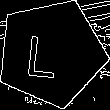L_N: (33, 26, 70, 80)
